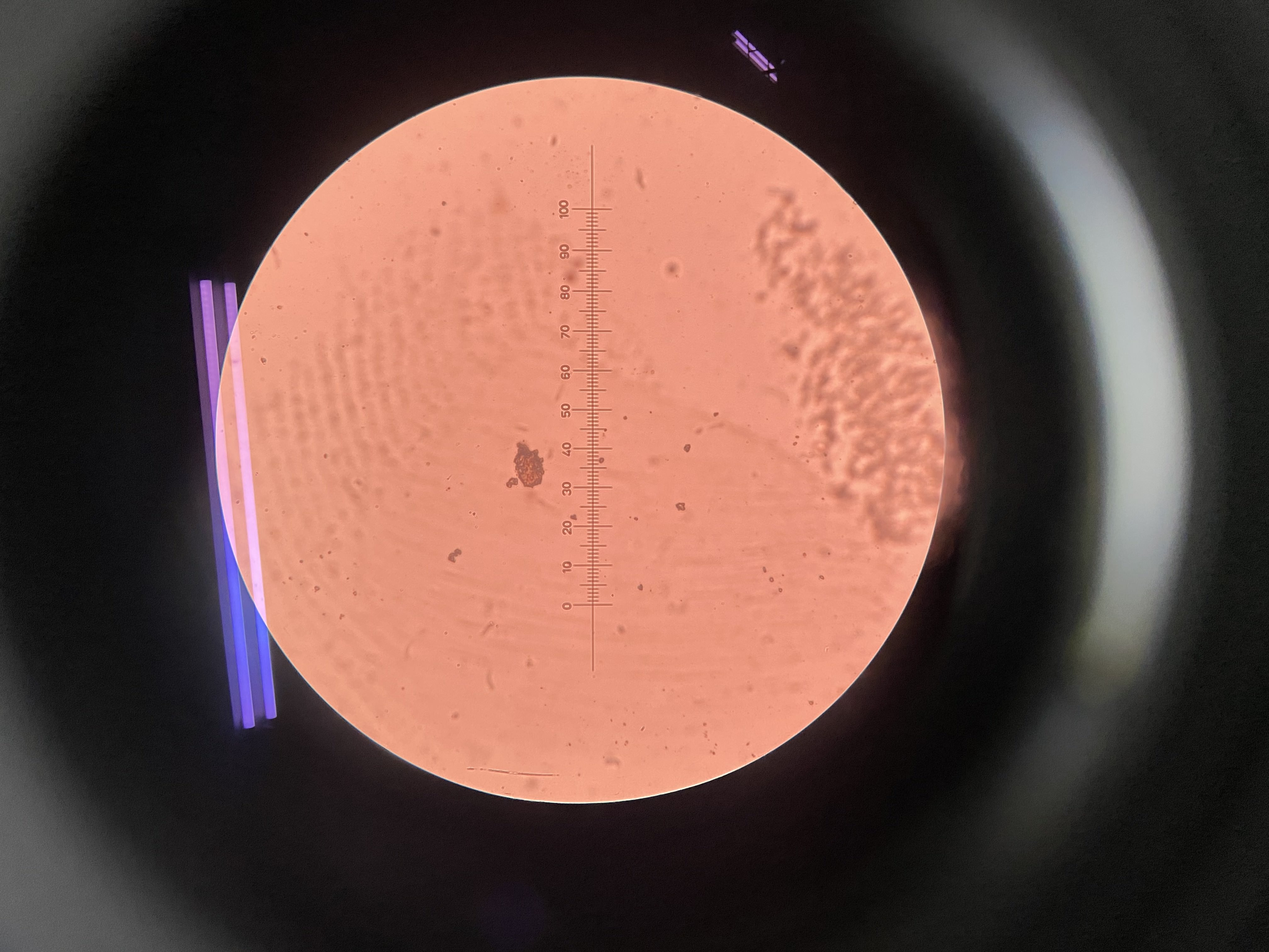not_microplastic: (746, 184, 978, 573), (504, 442, 551, 494), (444, 546, 468, 566), (666, 258, 687, 278), (637, 576, 652, 598), (708, 411, 723, 421), (675, 500, 687, 512), (680, 445, 696, 454)
